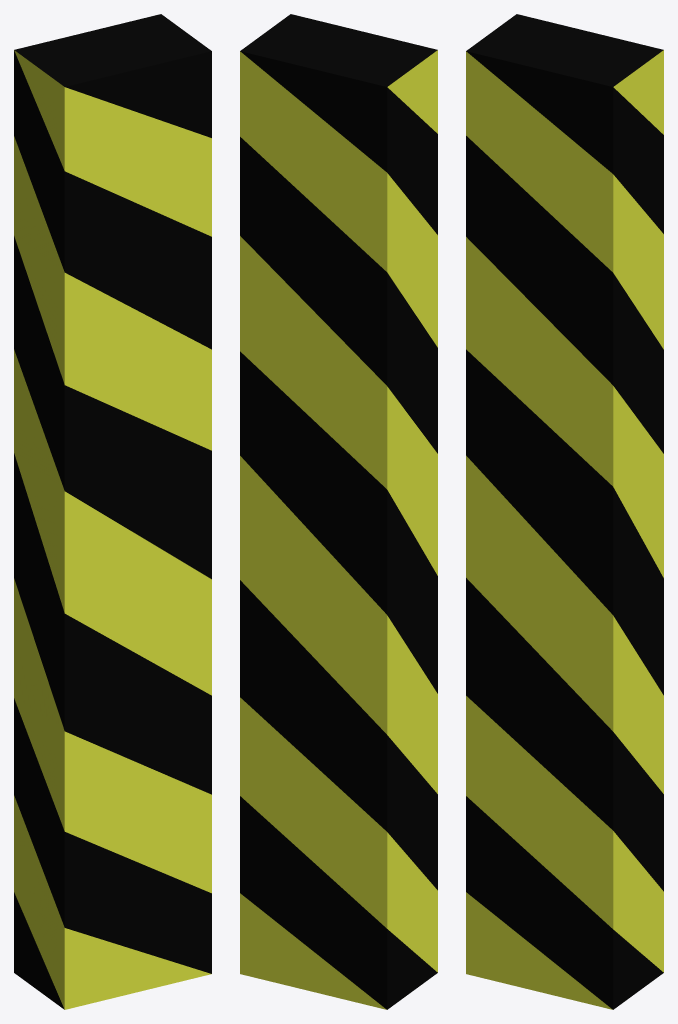
Rendered from DeadLine.obj.
3 renders of one model, left to right at view 1: azimuth 30°, elevation 25°; view 2: azimuth 150°, elevation 25°; view 3: azimuth 330°, elevation 25°, orthographic.
Visible parts, largest first — view 1: Cube; view 2: Cube; view 3: Cube.
Part boxes in pixels (x1,y1,x2,y2): Cube: [14, 14, 211, 1009]; Cube: [240, 14, 437, 1009]; Cube: [466, 14, 663, 1009].
Size of the model in its own units: 1.27 by 7.6 by 0.7575.
